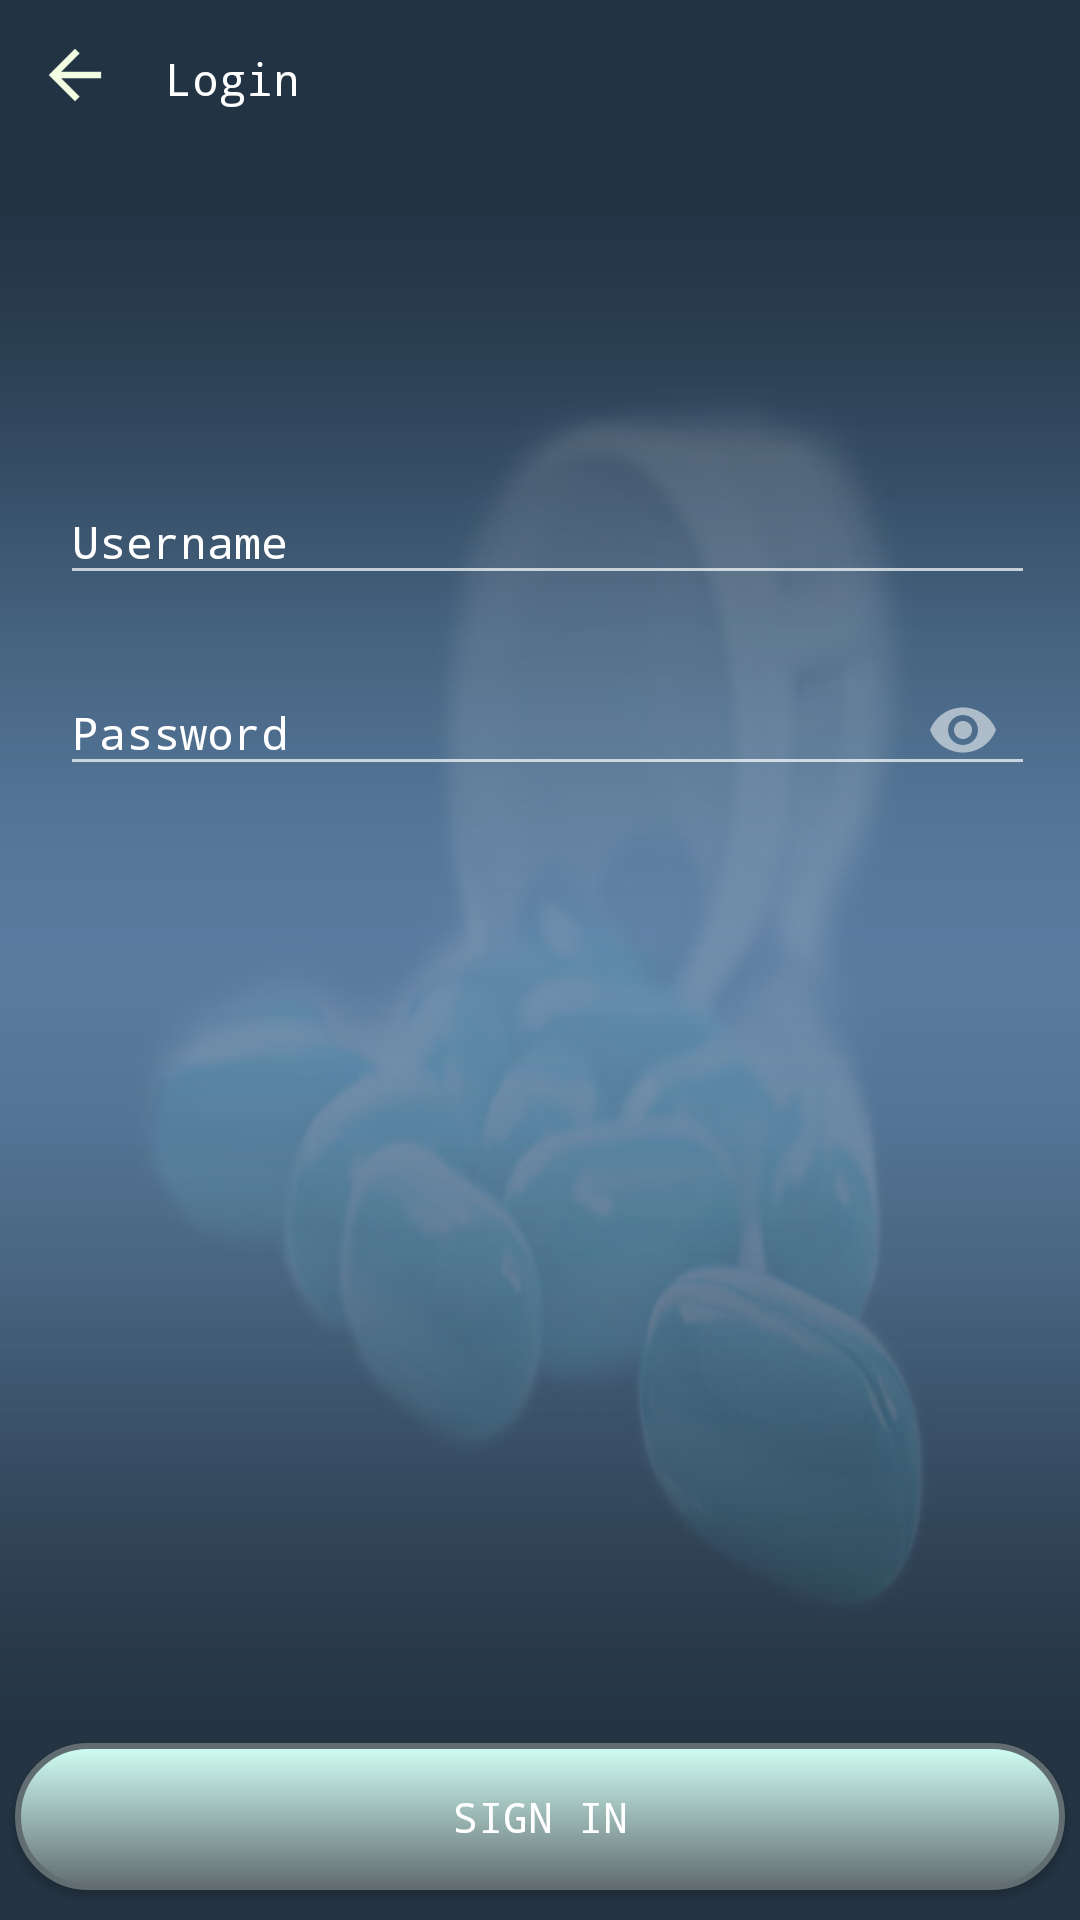

Where icons sit on this 1080 x 1920 app screen, as detection(x1, y1, x2, y2):
arrow back: detection(49, 49, 102, 101)
